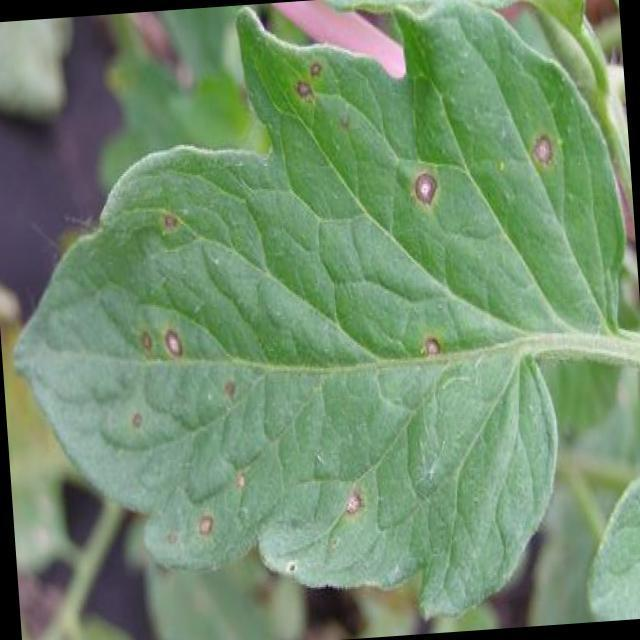Septoria: (123, 394, 260, 564), (117, 210, 200, 388), (318, 458, 377, 535), (282, 56, 334, 110), (400, 156, 444, 210), (527, 121, 555, 166), (414, 331, 448, 363)
